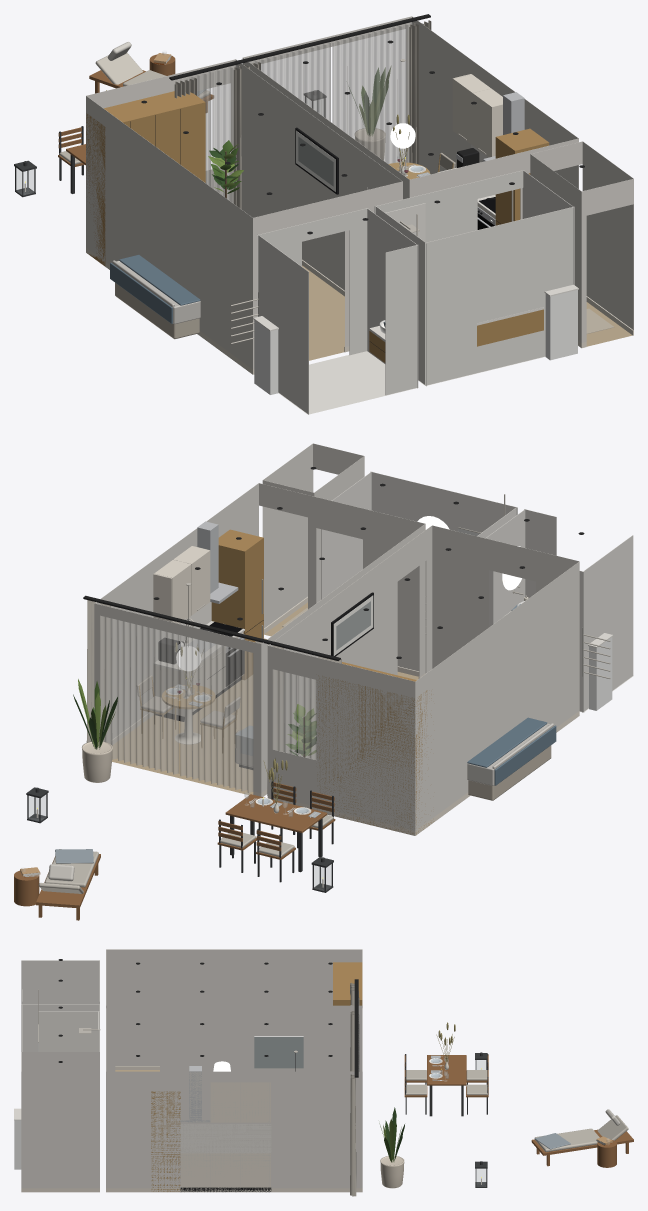
File: unit-0.A-atlantic.glb
The picture shows the model from 3 angles, top to bottom: view 1: azimuth 30°, elevation 25°; view 2: azimuth 150°, elevation 25°; view 3: azimuth 270°, elevation 25°; orthographic projection. The views are drawn at different scales.
Parts seen in each view (by area): view 1: int-wall, int-bathWall, int-sheer, int-joineryTall, int-joinery, int-bathFloor, int-whiteGloss, int-curtain, int-floor, int-bedThrow, int-matteBlack, int-teak (+11 smaller); view 2: int-wall, int-sheer, int-bathWall, int-joineryTall, int-floor, int-joinery, int-teak, int-curtain, int-bedThrow, int-outdoor, int-matteBlack, int-outCushion (+12 smaller); view 3: int-wall, int-joinery, int-bathWall, int-joineryTall, int-splash, int-teak, int-showerWall, int-outCushion, int-art:3:0, int-curtain, int-matteBlack, int-outdoor (+3 smaller).
Boxes of the visible parts, x1,y1,x2,y2 form: int-wall: (86,16,633,369); int-bathWall: (257,170,574,414); int-sheer: (186,23,412,203); int-joineryTall: (86,91,549,362); int-joinery: (86,74,633,374); int-bathFloor: (278,351,545,414); int-whiteGloss: (254,290,577,394); int-curtain: (174,20,431,209); int-floor: (302,265,344,360); int-bedThrow: (110,254,200,323); int-matteBlack: (169,14,495,199); int-teak: (58,54,213,166); int-wall: (94,443,579,830); int-sheer: (100,615,316,792); int-bathWall: (321,471,633,712); int-joineryTall: (211,529,433,834); int-floor: (112,638,418,794); int-joinery: (111,546,579,835); int-teak: (14,782,335,920); int-curtain: (86,600,341,795); int-bedThrow: (467,717,556,785); int-outdoor: (26,781,333,892); int-matteBlack: (83,595,340,721); int-outCushion: (38,815,333,893); int-wall: (21,949,362,1188); int-joinery: (21,1066,362,1192); int-bathWall: (21,960,99,1051); int-joineryTall: (151,962,362,1191); int-splash: (180,1124,271,1151); int-teak: (404,1055,633,1167); int-showerWall: (38,1011,99,1051); int-outCushion: (405,1070,628,1152); int-art:3:0: (254,1037,303,1068); int-curtain: (350,983,356,1196); int-matteBlack: (180,979,358,1192); int-outdoor: (405,1052,488,1187).
Bounding box in the file's own units: 6.62 × 2.92 × 12.54.
